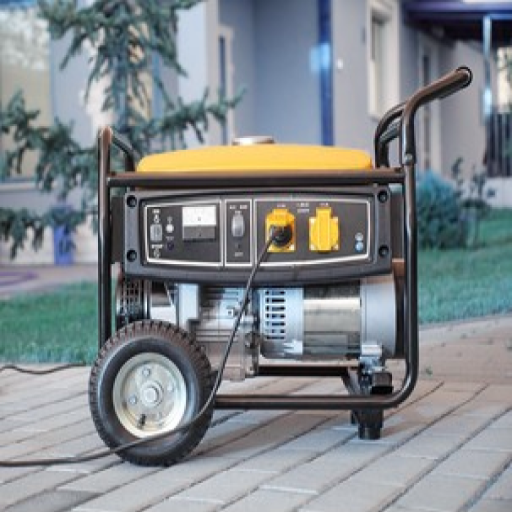portable_generator: (96, 123, 419, 411)
